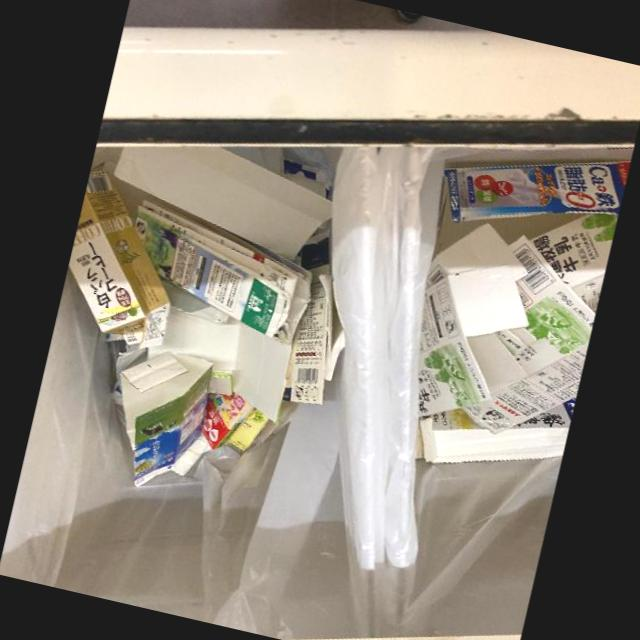carton: (462, 234, 595, 435), (113, 145, 332, 259), (135, 192, 300, 337), (417, 222, 529, 416), (432, 159, 631, 259), (147, 307, 291, 424), (118, 351, 214, 486), (419, 401, 574, 463), (281, 259, 343, 405), (534, 213, 618, 314), (201, 392, 269, 450)
vo_hop_sua: (68, 161, 170, 349)
